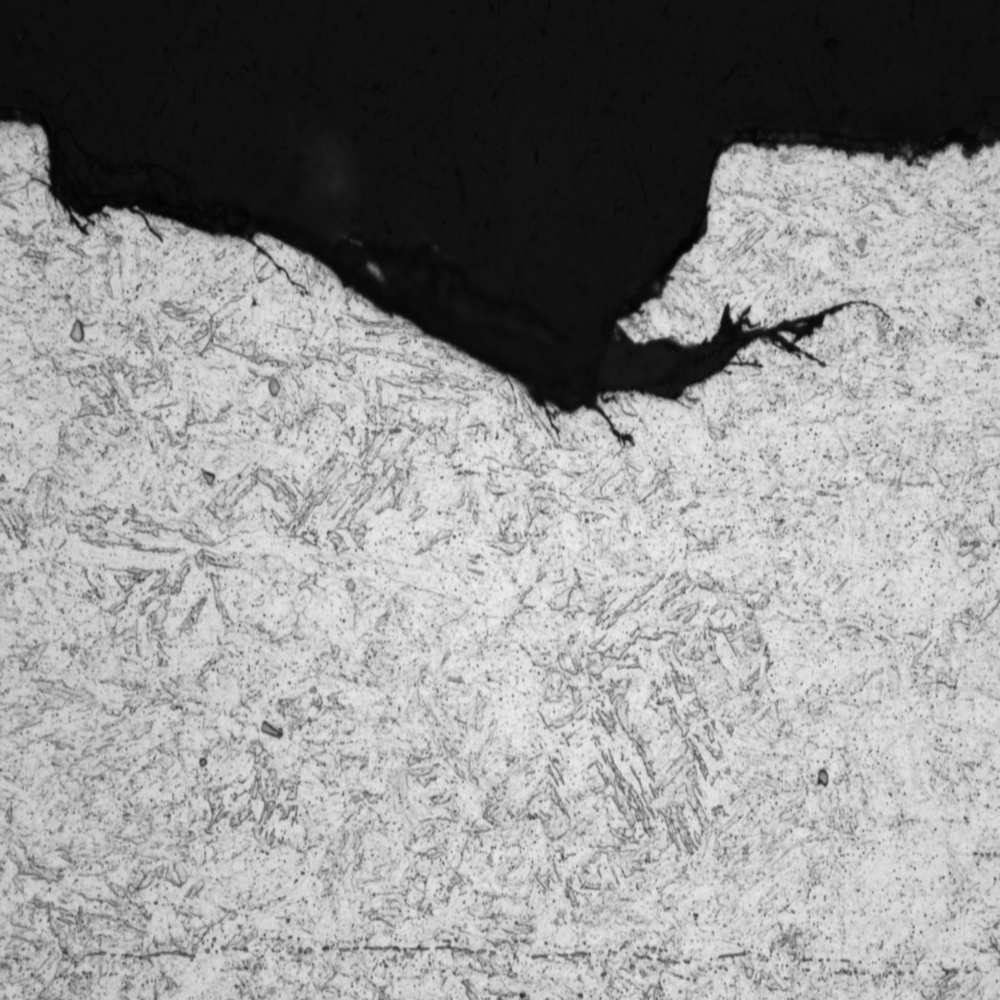crack: (459, 274, 927, 457)
